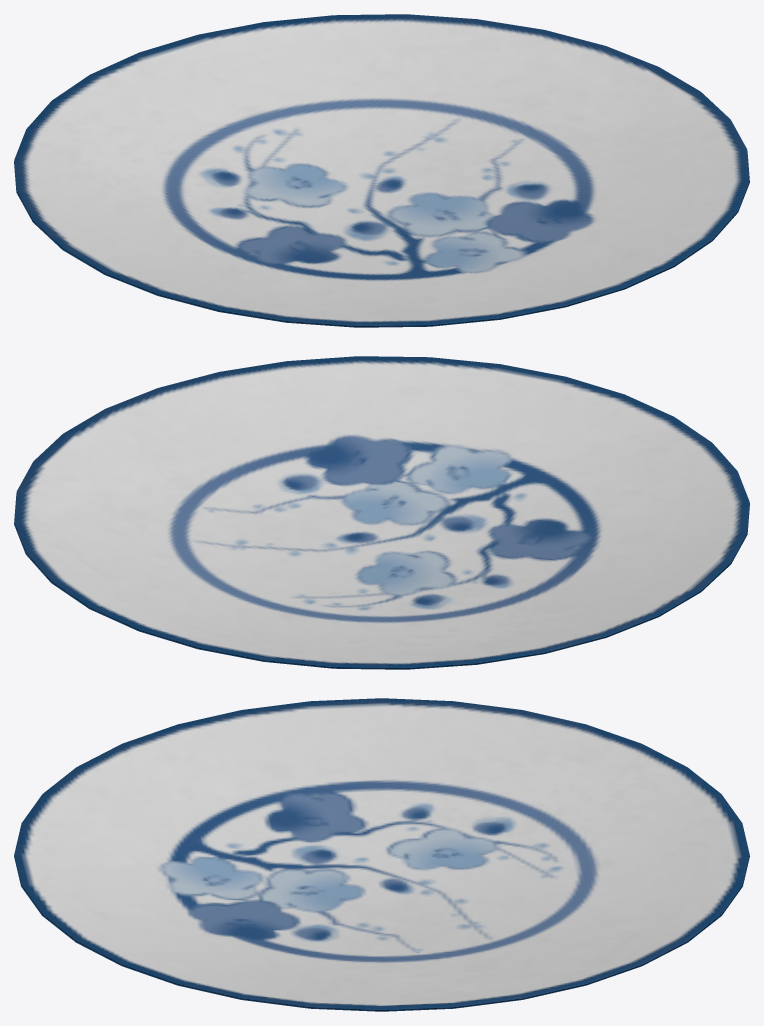
Rendered from jov_porcelain04b.fbx.
The picture shows the model from 3 angles, top to bottom: view 1: azimuth 30°, elevation 25°; view 2: azimuth 150°, elevation 25°; view 3: azimuth 270°, elevation 25°; orthographic projection.
Parts seen in each view (by area): view 1: jov_porcelain04b; view 2: jov_porcelain04b; view 3: jov_porcelain04b.
Part boxes in pixels (x1,y1,x2,y2): jov_porcelain04b: (14,14,749,327); jov_porcelain04b: (14,356,749,669); jov_porcelain04b: (14,698,749,1011).
Size of the model in its own units: 0.4385 by 0.0181 by 0.4385.
